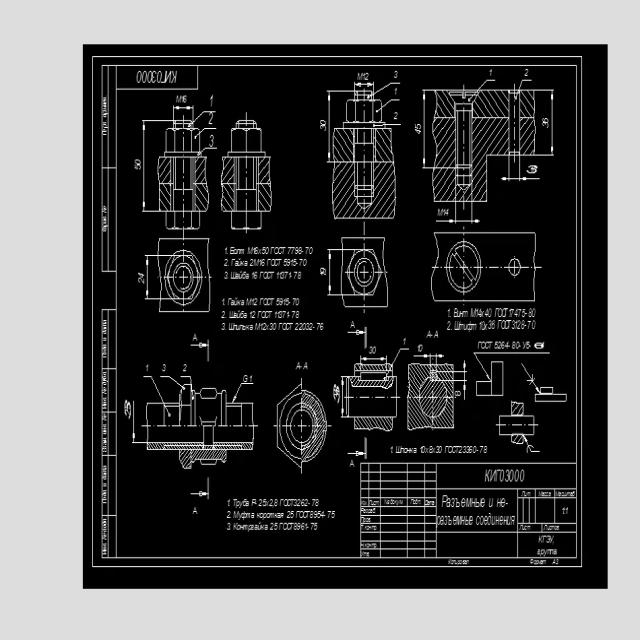marking_line: (142, 120, 157, 212), (536, 89, 555, 157), (500, 157, 541, 182), (435, 203, 481, 223), (422, 89, 433, 169), (327, 248, 341, 296), (144, 254, 158, 300), (133, 401, 147, 445), (521, 363, 540, 394), (454, 360, 468, 401), (472, 352, 490, 381), (348, 325, 369, 349), (348, 436, 368, 460), (190, 339, 210, 362), (327, 90, 333, 164), (191, 477, 211, 499), (233, 383, 254, 403), (172, 105, 194, 120), (524, 435, 540, 454), (413, 353, 443, 363), (340, 375, 346, 418), (361, 355, 388, 363), (354, 81, 374, 91)
numeric: (333, 382, 341, 403), (123, 399, 131, 418), (526, 164, 538, 174), (514, 470, 520, 483), (142, 70, 147, 84), (152, 69, 157, 83), (505, 469, 510, 483), (157, 70, 162, 83), (209, 134, 214, 147), (509, 468, 514, 481), (520, 469, 525, 482), (137, 71, 142, 83), (147, 71, 152, 83), (182, 362, 187, 373), (221, 310, 227, 319), (192, 333, 198, 342), (295, 361, 301, 370), (209, 112, 213, 125), (517, 308, 522, 318), (192, 506, 198, 514), (293, 271, 298, 280), (221, 322, 226, 331), (303, 361, 308, 370), (426, 330, 431, 339), (532, 319, 536, 330), (414, 123, 421, 129), (138, 277, 144, 284), (137, 272, 144, 278), (393, 112, 398, 120), (224, 259, 229, 267), (447, 308, 451, 318), (484, 308, 488, 318), (491, 319, 495, 329), (511, 341, 516, 349), (505, 341, 510, 349), (286, 298, 291, 306), (243, 375, 248, 383), (210, 94, 213, 107), (135, 164, 141, 170), (320, 125, 326, 131), (224, 270, 228, 279), (249, 258, 253, 267), (303, 258, 307, 267), (320, 267, 326, 273), (435, 330, 439, 339), (447, 321, 451, 330), (488, 308, 492, 317), (511, 308, 515, 317), (532, 308, 536, 317), (527, 321, 531, 330), (462, 445, 466, 454), (320, 120, 327, 125), (542, 118, 549, 123), (281, 311, 286, 318), (294, 323, 299, 330), (161, 365, 166, 372), (512, 319, 515, 330), (394, 71, 398, 79), (525, 69, 529, 77), (224, 247, 228, 255), (262, 246, 266, 254), (265, 247, 269, 255), (262, 258, 266, 266), (305, 246, 309, 254), (299, 258, 303, 266), (309, 247, 313, 255), (281, 271, 285, 279), (298, 271, 302, 279), (481, 321, 485, 329), (522, 309, 526, 317), (516, 341, 520, 349), (494, 341, 498, 349), (527, 341, 531, 349), (276, 298, 280, 306), (292, 297, 296, 305), (279, 298, 283, 306), (296, 298, 300, 306), (295, 311, 299, 319), (299, 322, 303, 330), (269, 323, 273, 331), (222, 298, 226, 306), (403, 338, 407, 346), (369, 346, 373, 354), (249, 375, 253, 383), (429, 445, 433, 453), (439, 445, 443, 453), (473, 445, 477, 453), (484, 445, 488, 453), (135, 160, 141, 165), (479, 308, 482, 318), (488, 319, 491, 329), (515, 308, 518, 318), (529, 308, 532, 318), (445, 209, 449, 216), (254, 272, 258, 279), (294, 247, 298, 254), (299, 247, 303, 254), (287, 259, 291, 266), (252, 311, 256, 318), (254, 298, 258, 305), (320, 323, 324, 330), (302, 323, 306, 330), (273, 323, 277, 330), (263, 323, 267, 330), (417, 345, 421, 352), (421, 446, 425, 453), (366, 72, 369, 81), (255, 246, 258, 255), (288, 246, 291, 255), (284, 258, 287, 267), (476, 308, 479, 317), (479, 321, 482, 330), (515, 321, 518, 330), (517, 320, 520, 329), (274, 310, 277, 319), (146, 362, 149, 371), (373, 345, 376, 354), (390, 444, 393, 453), (436, 445, 439, 454), (469, 445, 472, 454), (480, 445, 483, 454), (184, 95, 187, 103), (415, 130, 421, 134), (490, 68, 493, 76), (443, 209, 446, 217), (253, 247, 256, 255), (251, 271, 254, 279), (291, 259, 294, 267), (285, 272, 288, 280), (289, 271, 292, 279), (291, 247, 294, 255), (320, 272, 326, 276), (522, 320, 525, 328), (498, 341, 501, 349), (502, 341, 505, 349), (292, 311, 295, 319), (306, 322, 309, 330), (310, 323, 313, 331), (260, 322, 263, 330), (420, 344, 423, 352), (459, 446, 462, 454), (181, 95, 184, 102), (294, 259, 297, 266), (277, 272, 280, 279), (250, 311, 253, 318), (279, 311, 282, 318), (316, 323, 319, 330), (466, 446, 469, 453), (509, 308, 511, 318), (278, 310, 280, 319), (284, 298, 286, 307), (260, 259, 262, 267), (252, 298, 254, 306), (287, 311, 289, 319), (420, 446, 422, 454), (395, 88, 397, 95), (363, 73, 365, 80), (280, 272, 282, 279)
special_symbol: (534, 341, 545, 351)
